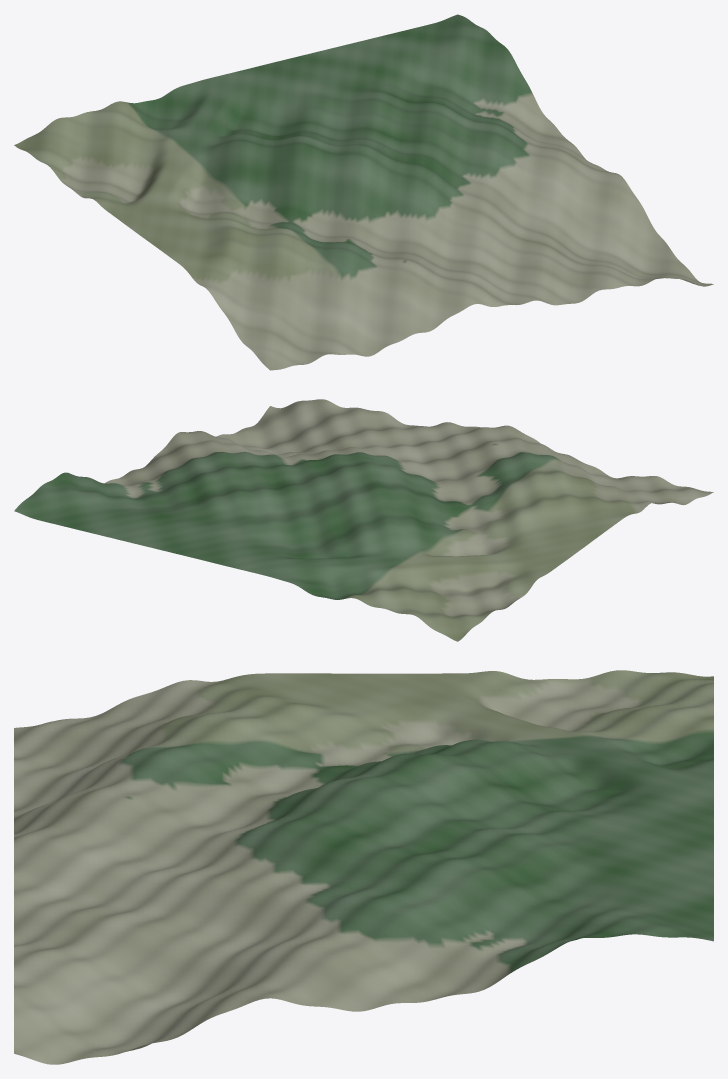
Rendered from terrain_2_0.glb.
The picture shows the model from 3 angles, top to bottom: view 1: azimuth 30°, elevation 25°; view 2: azimuth 150°, elevation 25°; view 3: azimuth 270°, elevation 25°; orthographic projection. The views are drawn at different scales.
Parts seen in each view (by area): view 1: terrain_2_0; view 2: terrain_2_0; view 3: terrain_2_0.
Boxes of the visible parts, <box> form: terrain_2_0: <box>14,14,713,370</box>; terrain_2_0: <box>14,399,713,641</box>; terrain_2_0: <box>14,670,713,1064</box>.
Bounding box in the file's own units: 512 × 109 × 512.
